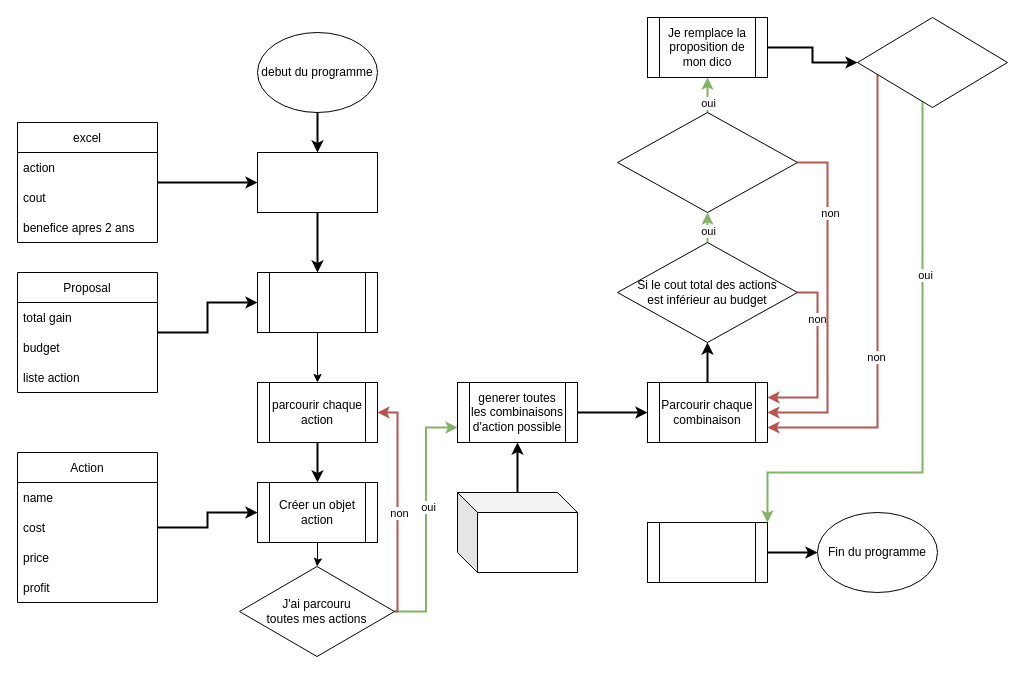
Image size: 1025x674. Some labels were removed from this diagram. Here are the shapes that lost their labels. From the top down, the box of each, then its label:
(856, 16, 1008, 108): J'ai parcouru toutes mes combinaison
(256, 152, 378, 212): recuperer les donné dans un fichier exel
(616, 112, 798, 212): Si le gain est supérieur au gain de mon dico
(256, 272, 378, 332): Créer un dictionnaire proposal
(456, 492, 578, 572): Librairie itertools
(646, 522, 768, 582): Je sort la combinaison gagnante
